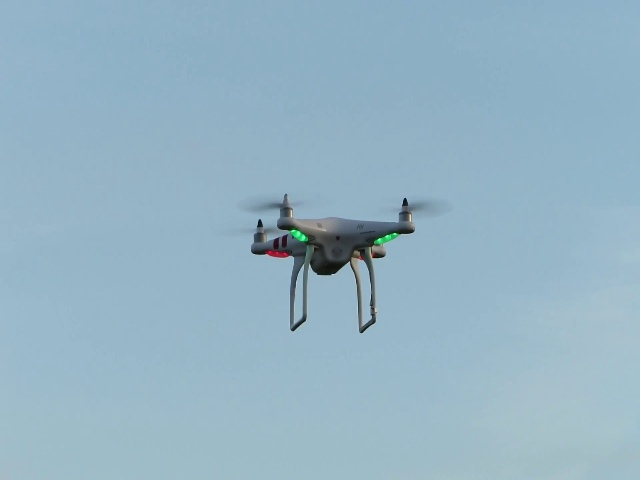drone: (226, 193, 441, 335)
